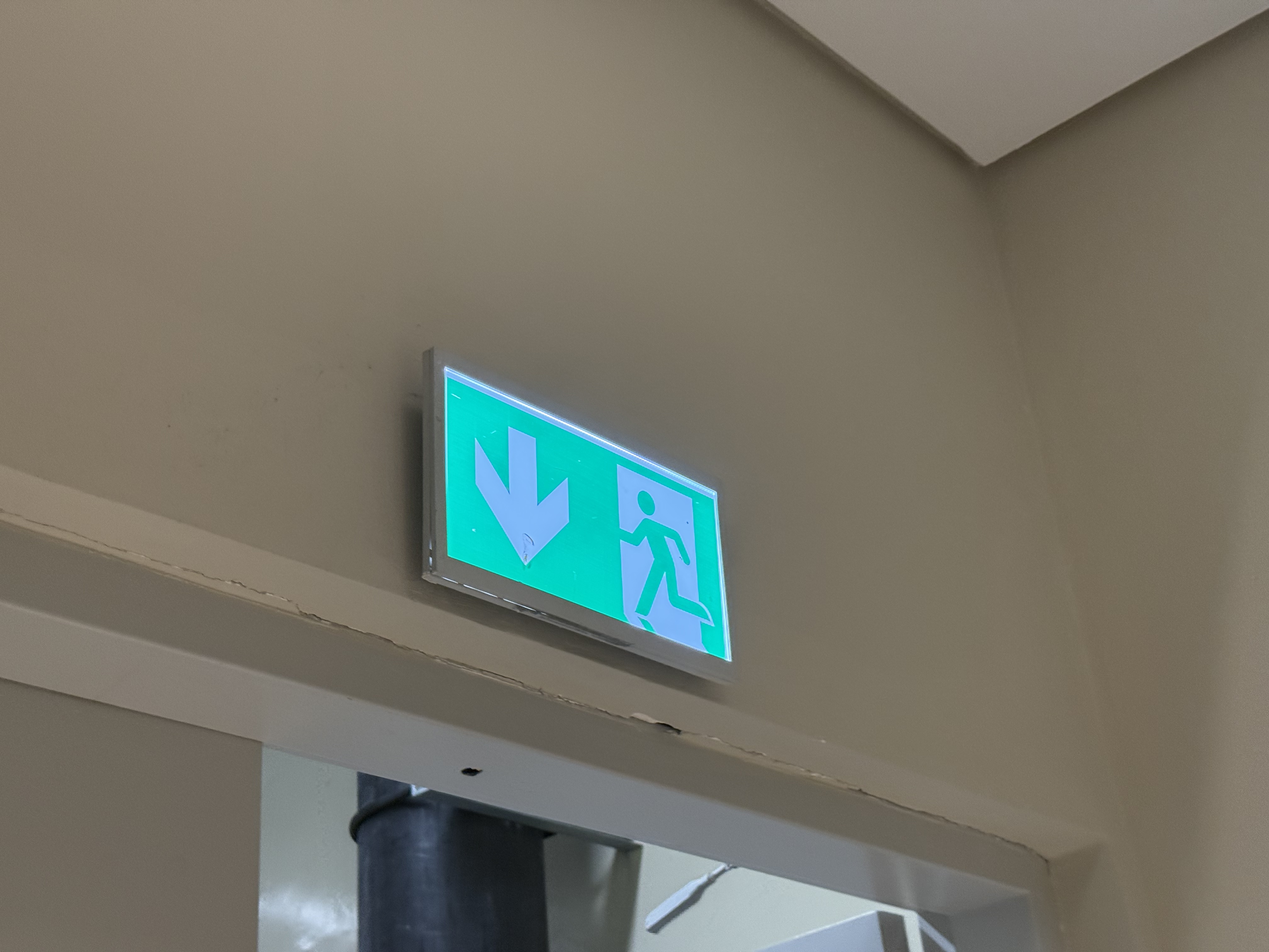emergency_exit: (417, 344, 738, 687)
